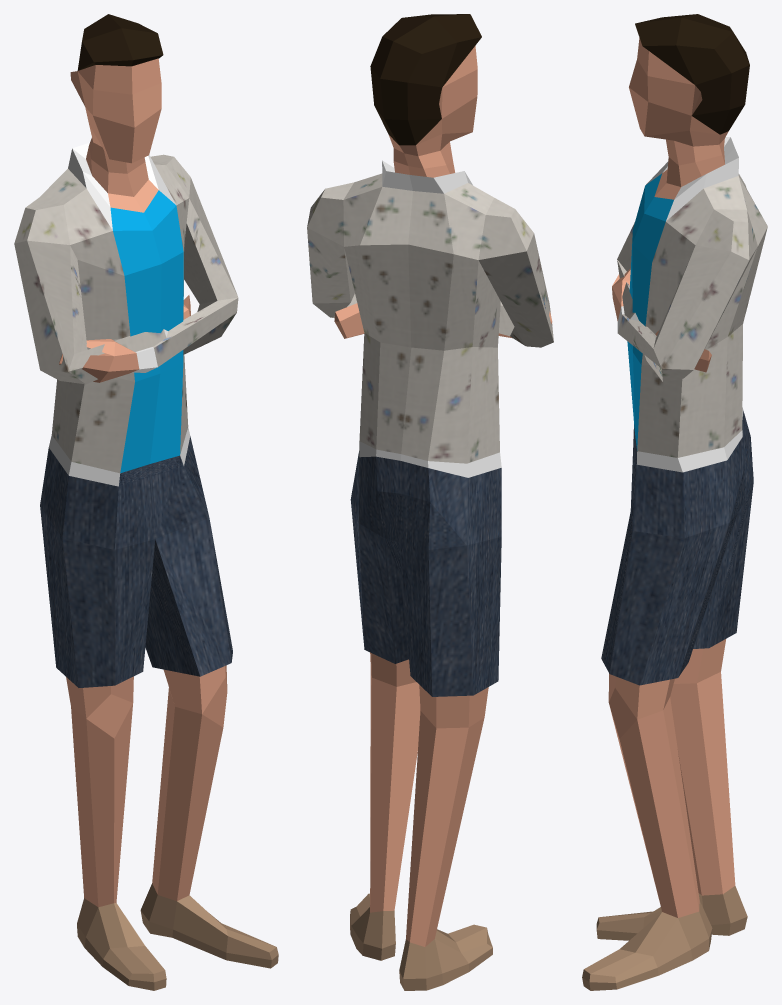
The model's file is SpringManA.002.glb.
3 views of the same model, side by side, from view 1: azimuth 30°, elevation 25°; view 2: azimuth 150°, elevation 25°; view 3: azimuth 270°, elevation 25° (orthographic). The views are drawn at different scales.
Visible parts, largest first — view 1: SpringManA.002; view 2: SpringManA.002; view 3: SpringManA.002.
Part boxes in pixels (bbox=[...]): SpringManA.002: bbox=[14, 14, 278, 990]; SpringManA.002: bbox=[307, 14, 553, 990]; SpringManA.002: bbox=[582, 14, 767, 990].
Bounding box in the file's own units: 0.4193 × 1.75 × 0.3198.
Materials: 1 (1 with a texture image).
